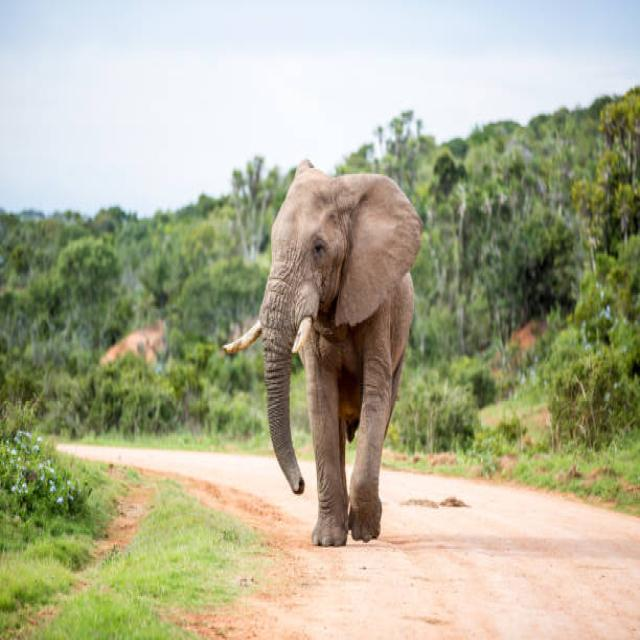Elephant: (222, 151, 433, 579)
